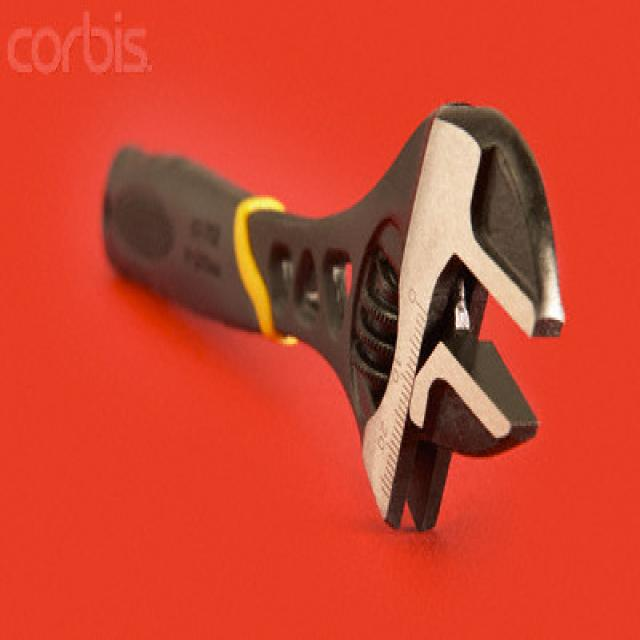wrench: (96, 111, 623, 601)
